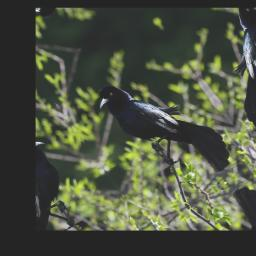Crow: (89, 51, 239, 203)
